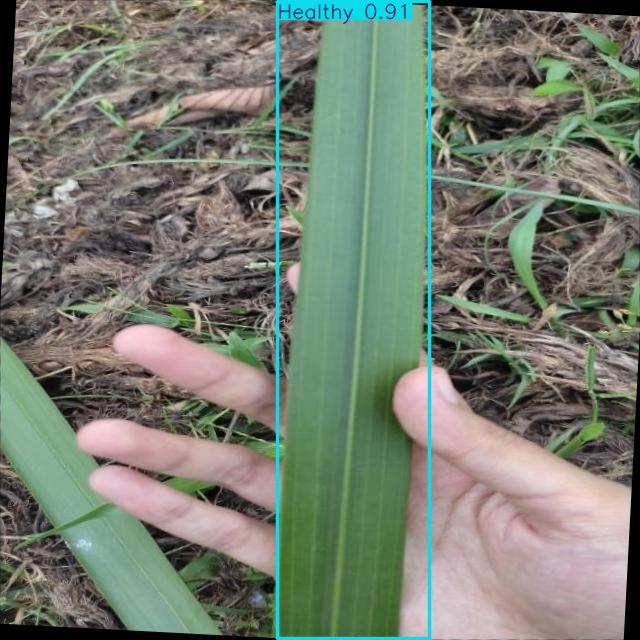Healthy: (277, 1, 429, 638)
